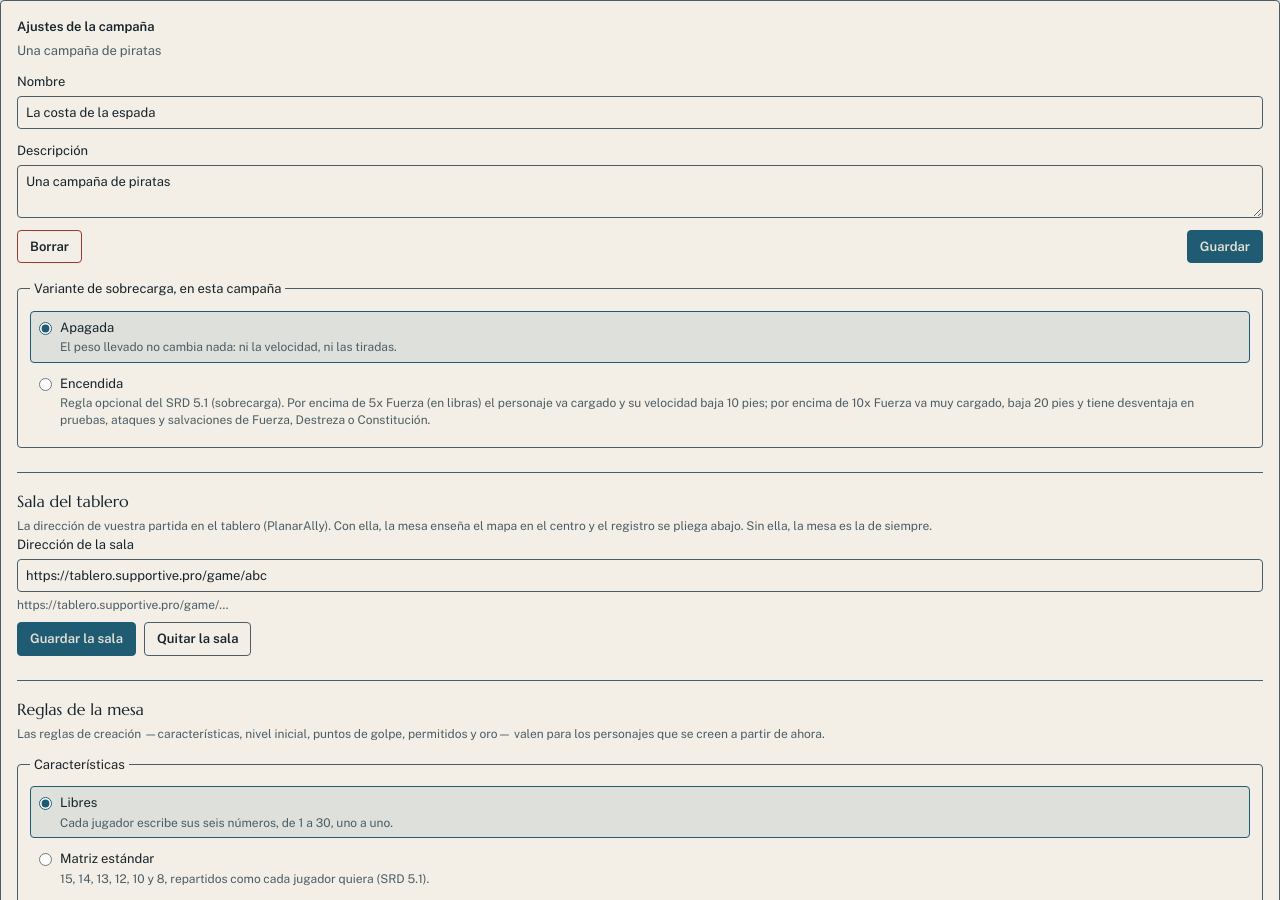
Test: CampaignSettings — la Sala del tablero (pulido, C1 bis) › si Quitar la sala falla, el input conserva su valor
Click the button "Quitar la sala". click: (198, 639)
box: [144, 622, 252, 656]
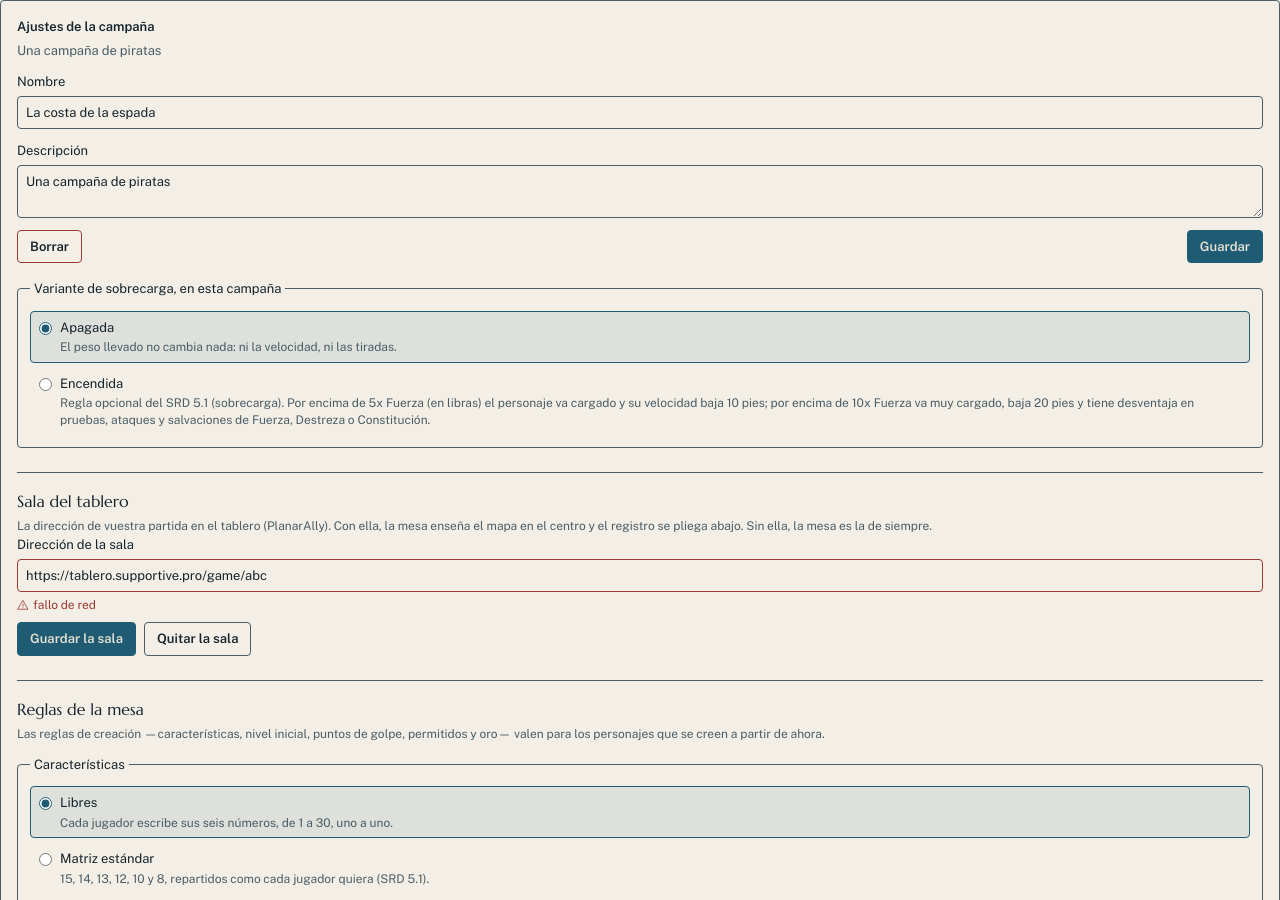
Expected: the field labelled "Dirección de la sala" holds "https://tablero.supportive.pro/game/abc", [17, 558, 1263, 592]
Result: the text "fallo de red" is shown at [17, 598, 96, 612]
